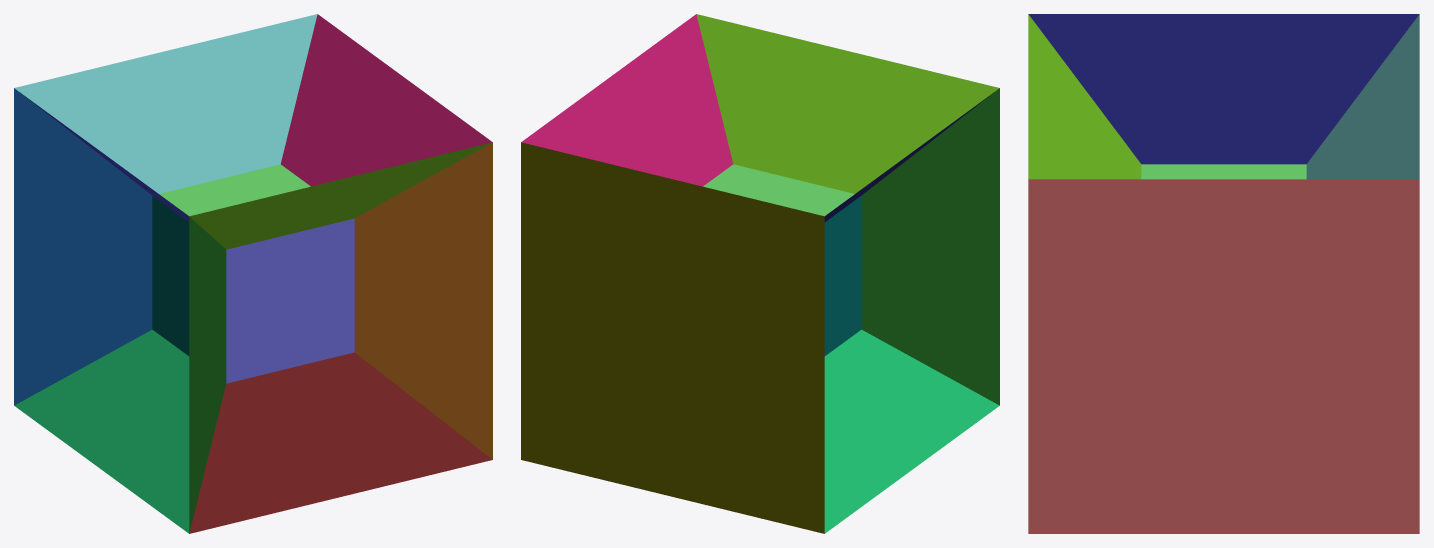
File: zeometry-sculptural-hollow-cube_v2.glb
3 renders of one model, left to right at view 1: azimuth 30°, elevation 25°; view 2: azimuth 150°, elevation 25°; view 3: azimuth 270°, elevation 25°, orthographic. The views are drawn at different scales.
Visible parts, largest first — view 1: Hollow Cube_v2; view 2: Hollow Cube_v2; view 3: Hollow Cube_v2.
Boxes of the visible parts, box(x1,y1,x2,y2) form: Hollow Cube_v2: box(14, 14, 492, 533); Hollow Cube_v2: box(521, 14, 999, 533); Hollow Cube_v2: box(1028, 14, 1419, 533).
Size of the model in its own units: 0.5 by 0.5 by 0.5.
